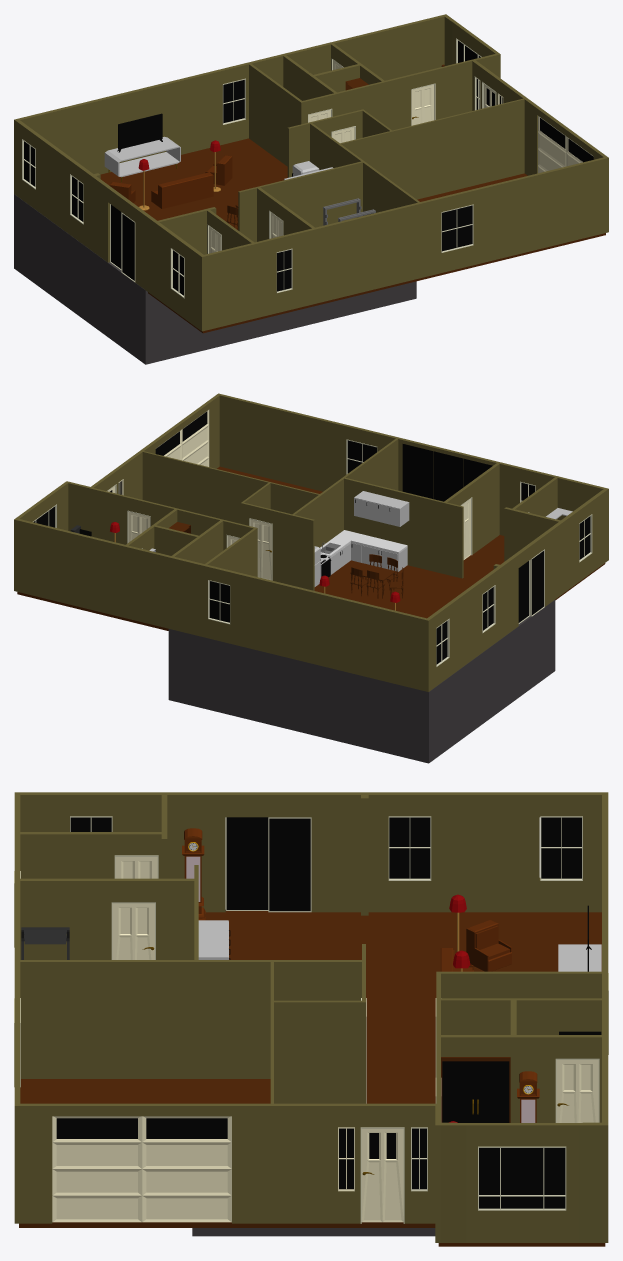
File: furniture.fbx
The picture shows the model from 3 angles, top to bottom: view 1: azimuth 30°, elevation 25°; view 2: azimuth 150°, elevation 25°; view 3: azimuth 270°, elevation 25°; orthographic projection. The views are drawn at different scales.
Visible parts, largest first — view 1: House, Bwalls, Floor, TVtable, Sofa, Glass.006, TV, GarageDoor, Glass.007, Door, Glass.008, Glass.009 (+3 smaller); view 2: House, Bwalls, Floor, Plane, Plane.001, GarageDoor, CounterTop, Glass.007, Glass.008, Glass.009, GlassSlide, Glass.006 (+2 smaller); view 3: House, Floor, GarageDoor, Glass.001, Glass.008, GlassSlide, FrontDoor, Glass.009, Door.002, Glass.002, Glass.003, Door.012 (+13 smaller).
Boxes of the visible parts, left/top/right/bottom form: House: left=14, top=14, right=608, bottom=331; Bwalls: left=14, top=194, right=416, bottom=364; Floor: left=100, top=138, right=605, bottom=333; TVtable: left=104, top=136, right=180, bottom=177; Sofa: left=151, top=172, right=213, bottom=208; Glass.006: left=442, top=205, right=472, bottom=251; TV: left=117, top=113, right=162, bottom=152; GarageDoor: left=538, top=116, right=593, bottom=173; Glass.007: left=223, top=80, right=244, bottom=123; Door: left=412, top=84, right=434, bottom=125; Glass.008: left=122, top=214, right=134, bottom=280; Glass.009: left=540, top=118, right=593, bottom=162; House: left=14, top=393, right=608, bottom=691; Bwalls: left=168, top=600, right=555, bottom=763; Floor: left=17, top=466, right=605, bottom=630; Plane: left=402, top=444, right=432, bottom=498; Plane.001: left=433, top=451, right=463, bottom=501; GarageDoor: left=156, top=409, right=209, bottom=466; CounterTop: left=320, top=530, right=407, bottom=557; Glass.007: left=209, top=581, right=229, bottom=622; Glass.008: left=532, top=551, right=543, bottom=614; Glass.009: left=155, top=411, right=207, bottom=455; GlassSlide: left=518, top=561, right=528, bottom=622; Glass.006: left=347, top=440, right=376, bottom=473; House: left=14, top=792, right=608, bottom=1242; Floor: left=19, top=911, right=605, bottom=1246; GarageDoor: left=52, top=1116, right=231, bottom=1222; Glass.001: left=479, top=1148, right=565, bottom=1208; Glass.008: left=226, top=817, right=268, bottom=909; GlassSlide: left=269, top=818, right=310, bottom=911; FrontDoor: left=361, top=1128, right=403, bottom=1222; Glass.009: left=56, top=1118, right=227, bottom=1138; Door.002: left=556, top=1059, right=598, bottom=1122; Glass.002: left=389, top=817, right=430, bottom=878; Glass.003: left=541, top=817, right=581, bottom=878; Door.012: left=112, top=903, right=154, bottom=959.
Bounding box in the file's own units: 1258 × 414 × 949.
